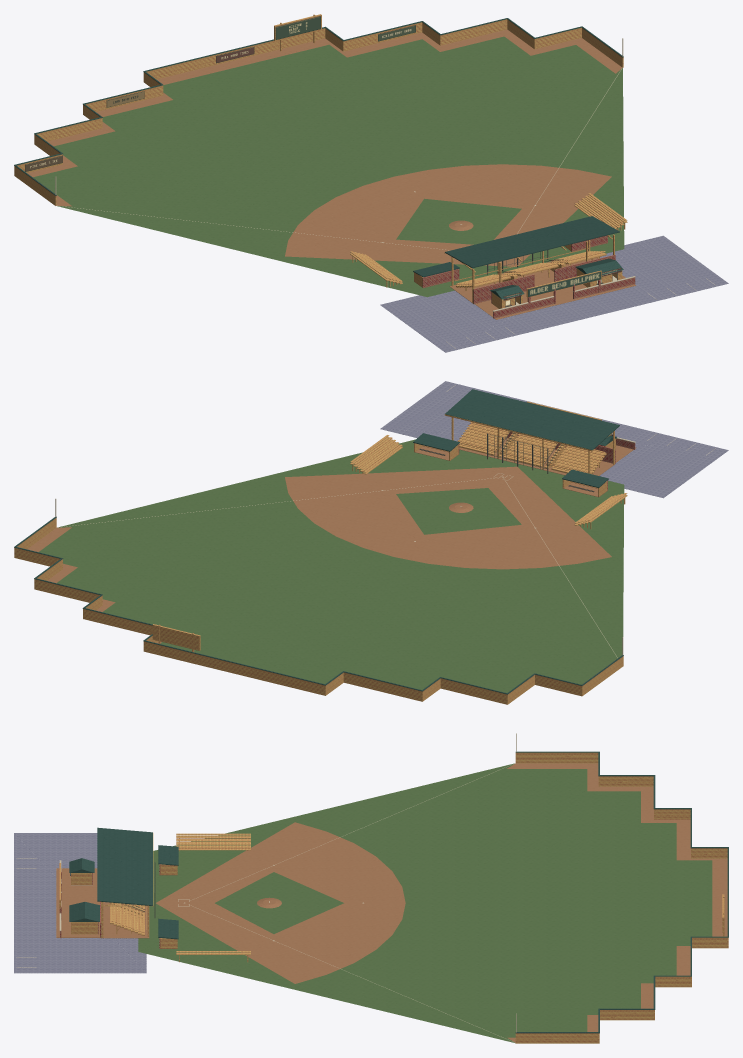
File: alder-bend-1935-mid.glb
3 renders of one model, top to bottom at view 1: azimuth 30°, elevation 25°; view 2: azimuth 150°, elevation 25°; view 3: azimuth 270°, elevation 25°, orthographic.
Visible parts, largest first — view 1: diamond, lot, outfield_fence, grandstand, park_buildings, line_bleachers, sign_name, sign_scoreboard; view 2: diamond, outfield_fence, grandstand, lot, park_buildings, line_bleachers; view 3: diamond, lot, outfield_fence, grandstand, park_buildings, line_bleachers.
Part boxes in pixels (x1=…): diamond: x1=27, y1=29, x2=624, y2=297; lot: x1=380, y1=235, x2=728, y2=352; outfield_fence: x1=14, y1=14, x2=623, y2=205; grandstand: x1=444, y1=216, x2=619, y2=304; park_buildings: x1=413, y1=235, x2=635, y2=318; line_bleachers: x1=350, y1=193, x2=627, y2=287; sign_name: x1=528, y1=271, x2=601, y2=296; sign_scoreboard: x1=275, y1=16, x2=320, y2=39; diamond: x1=27, y1=433, x2=624, y2=692; outfield_fence: x1=14, y1=498, x2=623, y2=704; grandstand: x1=444, y1=389, x2=619, y2=475; lot: x1=380, y1=381, x2=728, y2=498; park_buildings: x1=413, y1=401, x2=635, y2=497; line_bleachers: x1=350, y1=435, x2=627, y2=529; diamond: x1=138, y1=763, x2=727, y2=1043; lot: x1=14, y1=833, x2=146, y2=973; outfield_fence: x1=515, y1=733, x2=728, y2=1043; grandstand: x1=97, y1=827, x2=153, y2=938; park_buildings: x1=59, y1=845, x2=178, y2=948; line_bleachers: x1=176, y1=833, x2=250, y2=962.
Size of what is drawn, in the model's own units: 144 by 9.38 by 155.
Materials: 10 (10 with a texture image).
